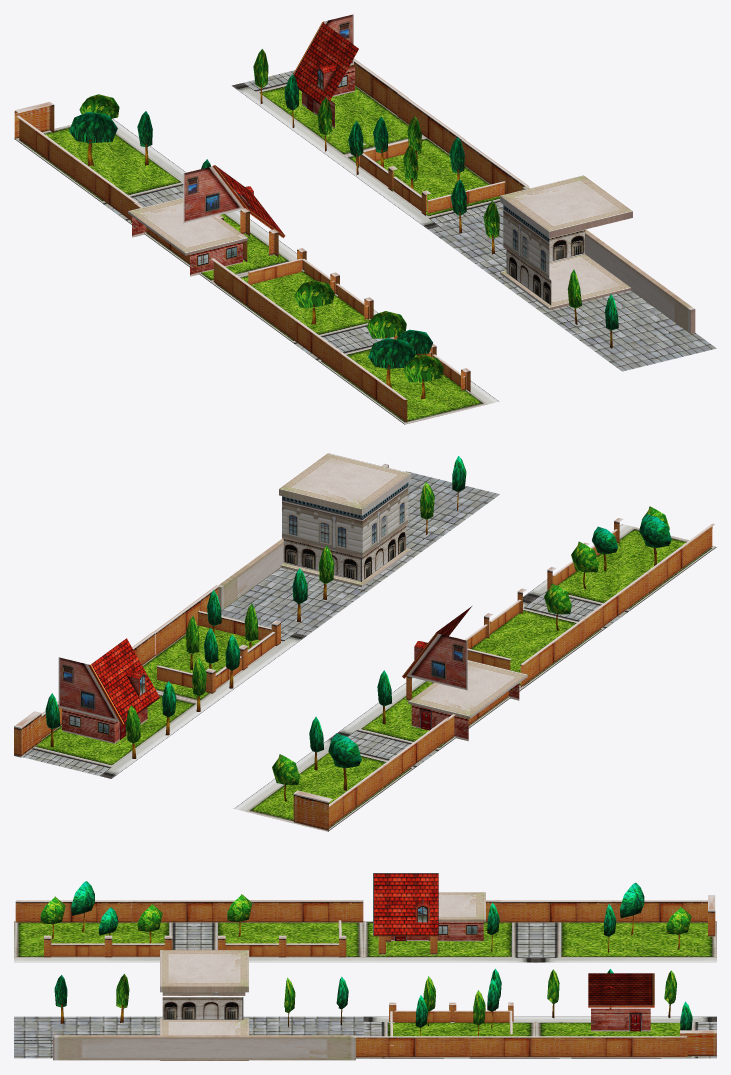
The model's file is eu_uptown_mid2.fbx.
3 renders of one model, top to bottom at view 1: azimuth 30°, elevation 25°; view 2: azimuth 150°, elevation 25°; view 3: azimuth 270°, elevation 25°, orthographic. The views are drawn at different scales.
Parts seen in each view (by area): view 1: polySurface27; view 2: polySurface27; view 3: polySurface27.
Boxes of the visible parts, x1,y1,x2,y2 form: polySurface27: [14, 14, 716, 424]; polySurface27: [14, 453, 716, 831]; polySurface27: [14, 873, 716, 1060].
Size of the model in its own units: 4875 by 1182 by 10000.
